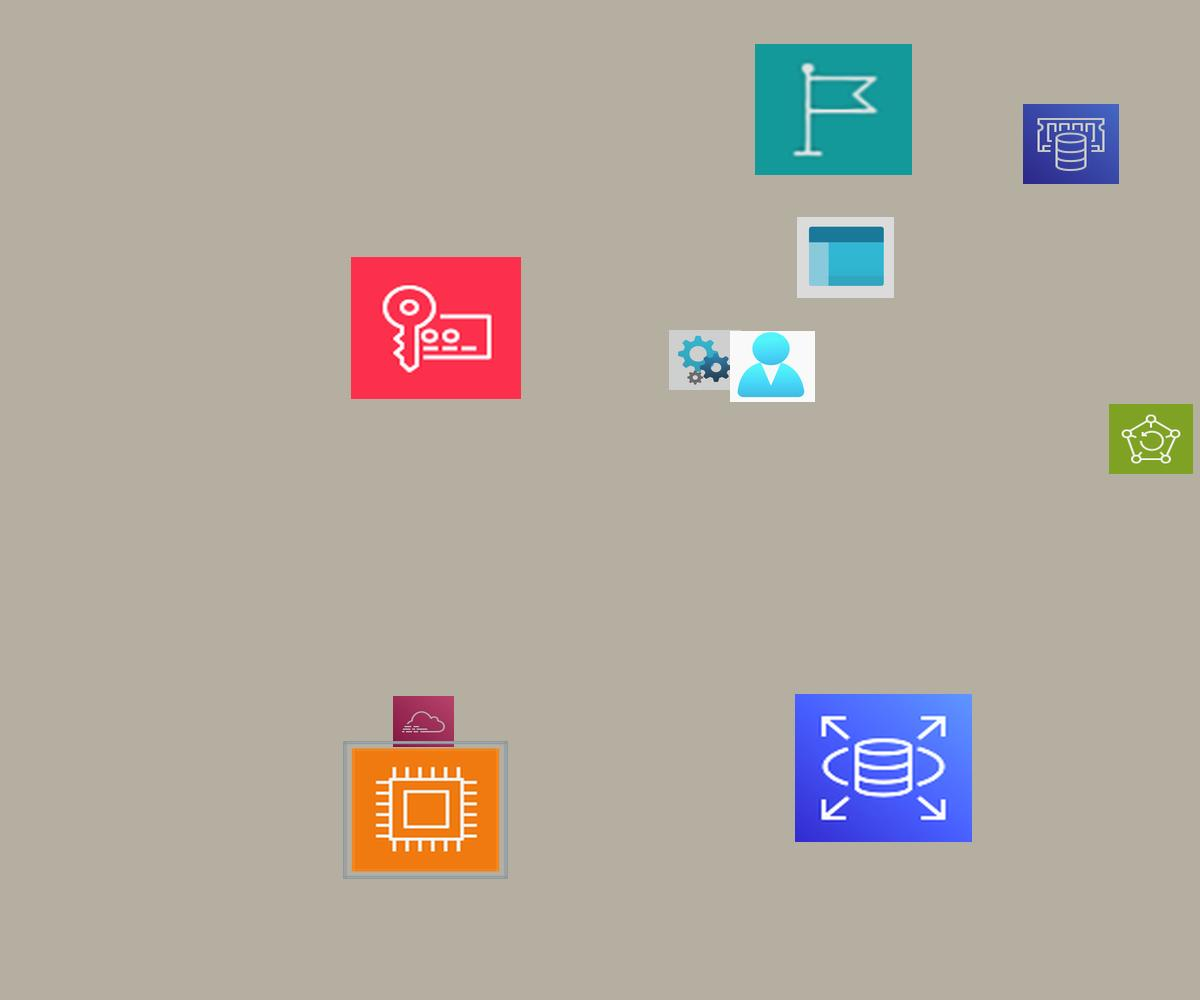AWS-Backup: (1109, 404, 1193, 474)
AWS-Category_Compute: (343, 741, 508, 879)
AWS-CloudTrail: (393, 696, 454, 747)
AWS-ElastiCache: (1023, 104, 1119, 184)
AWS-Key-Management-Service: (351, 257, 521, 399)
AWS-RDS: (795, 694, 972, 842)
AWS-Region: (755, 44, 912, 175)
Azure_api: (669, 330, 741, 390)
Azure_management-portal: (797, 217, 894, 298)
Azure_users: (730, 331, 815, 402)
